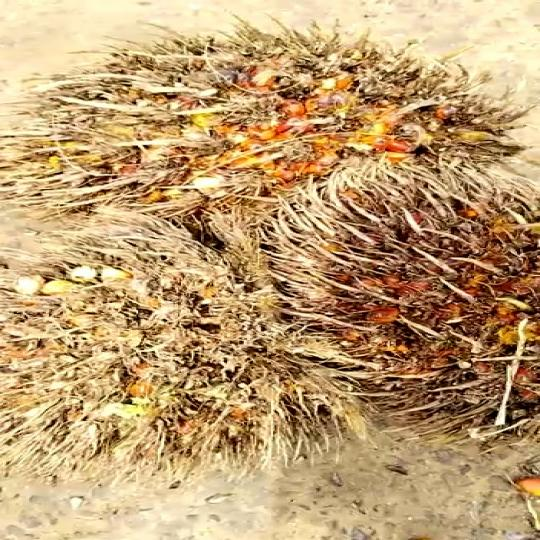terlalu masak: (0, 52, 527, 205), (0, 232, 273, 470)
